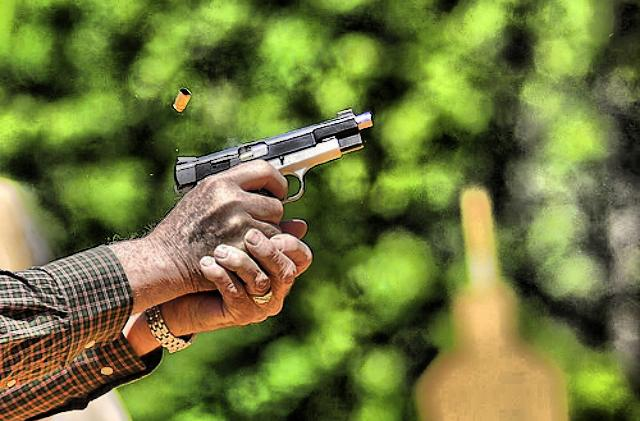pistol: (171, 103, 371, 205)
